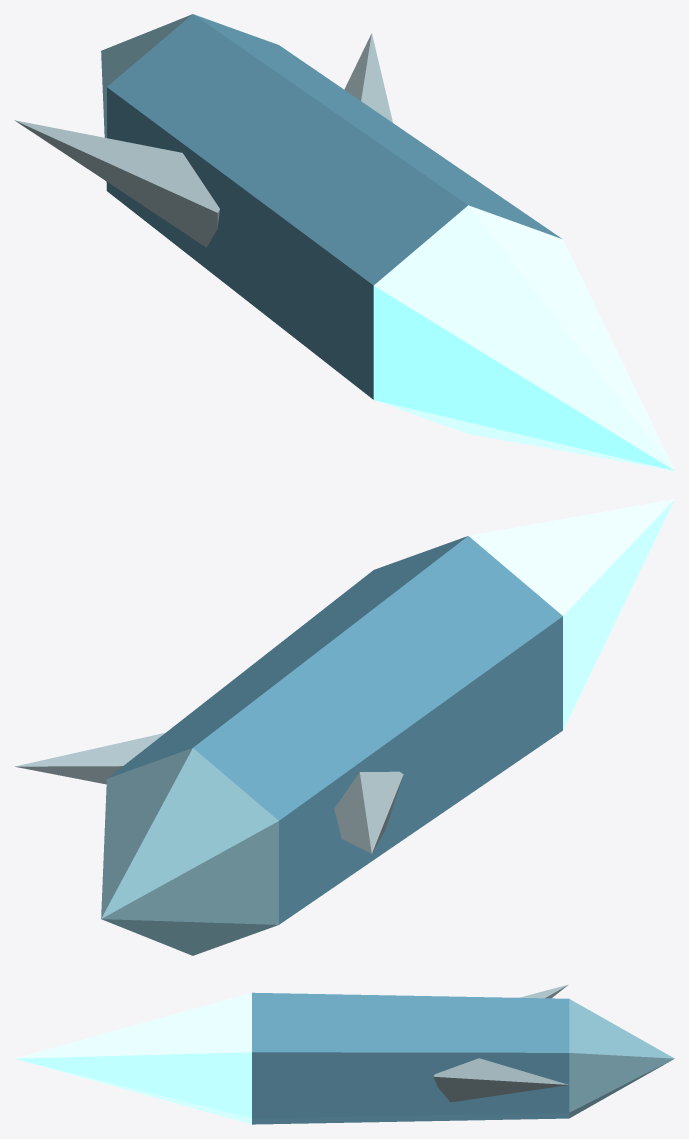
Rendered from ice_shard.glb.
3 views of the same model, one above another, from view 1: azimuth 30°, elevation 25°; view 2: azimuth 150°, elevation 25°; view 3: azimuth 270°, elevation 25° (orthographic). The views are drawn at different scales.
Visible parts, largest first — view 1: IceShard; view 2: IceShard; view 3: IceShard.
Boxes of the visible parts, x1=… form: IceShard: x1=14, y1=14, x2=674, y2=470; IceShard: x1=15, y1=499, x2=674, y2=955; IceShard: x1=14, y1=984, x2=674, y2=1124.
Size of the model in its own units: 0.18 by 0.11 by 0.5.
